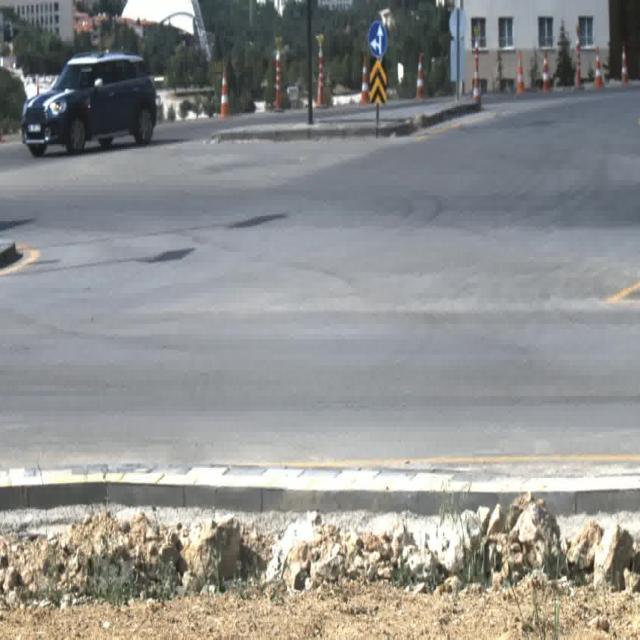Car: (22, 54, 157, 156)
